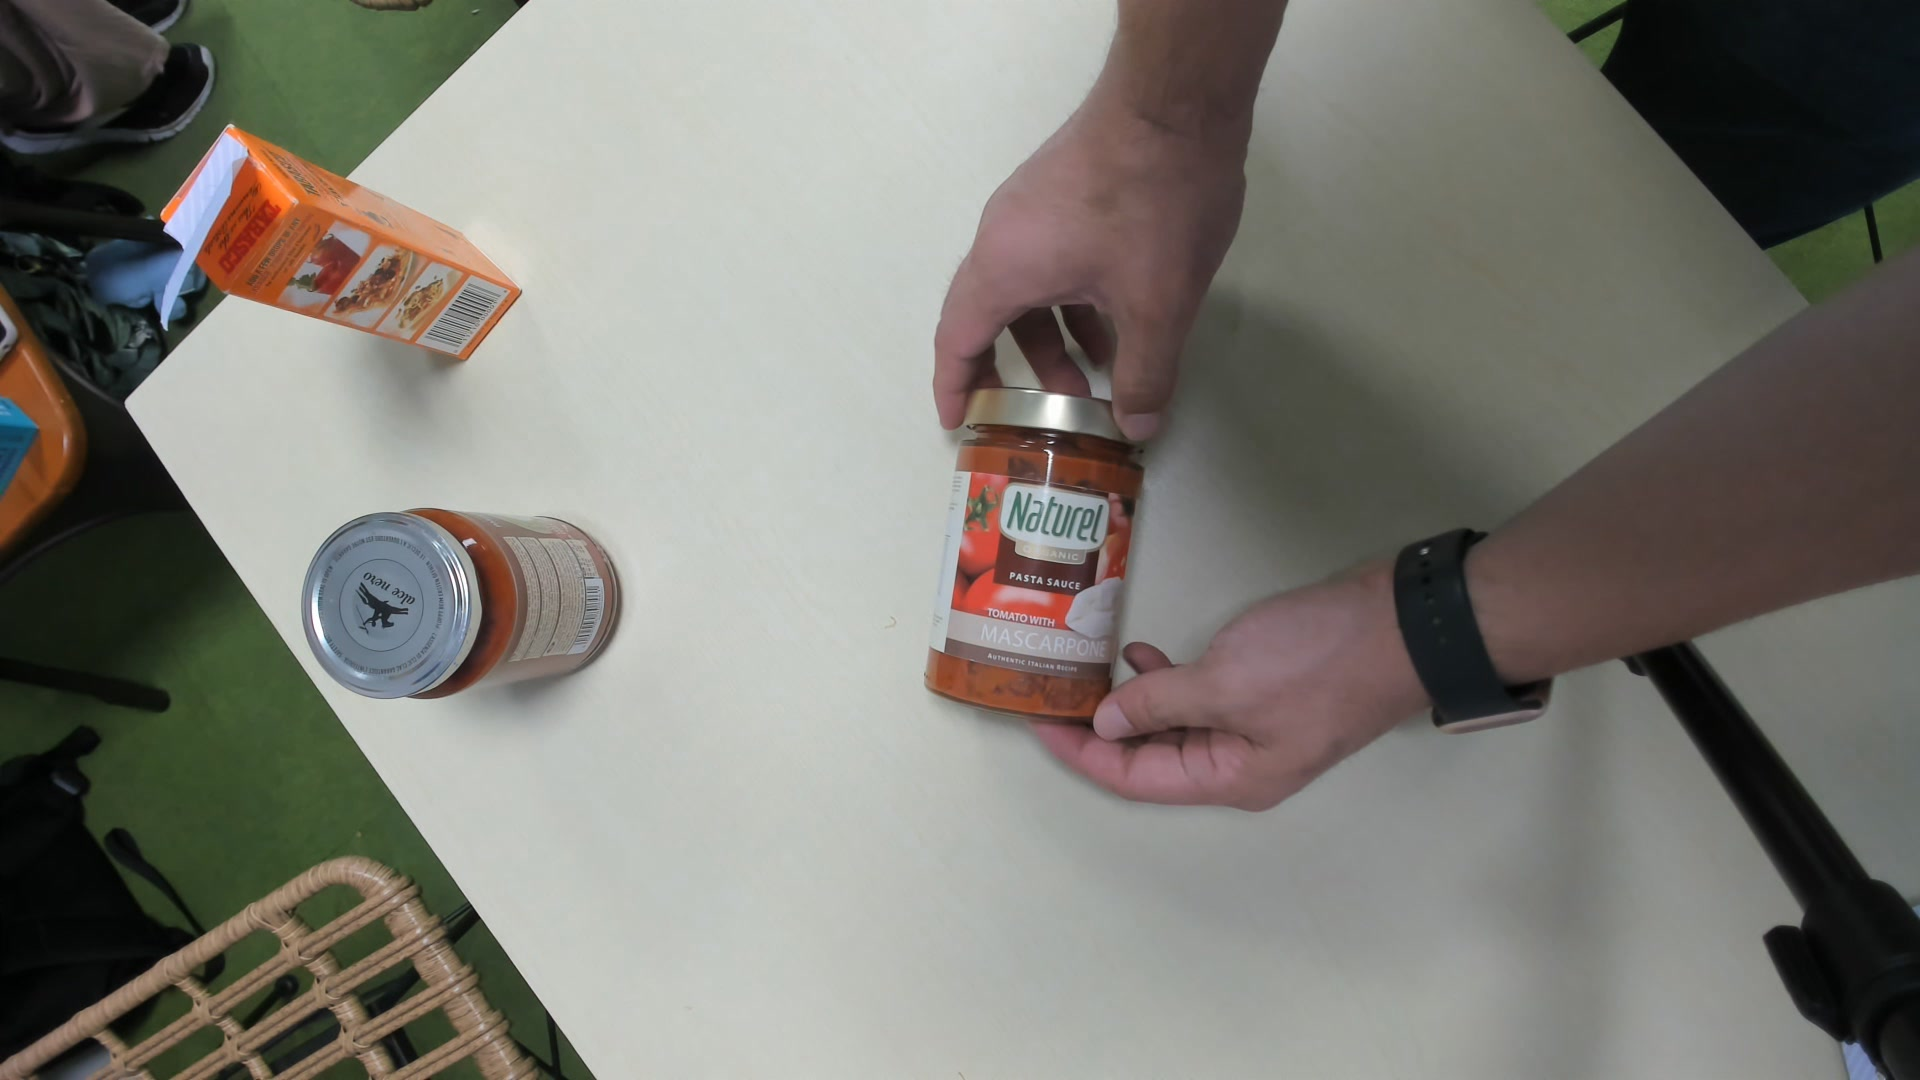PastaSauce_300-399g_NonHalal_NonHealthy: (934, 384, 1146, 727)
